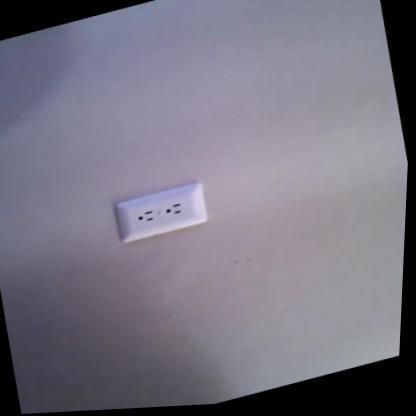OUTLET: (112, 179, 210, 243)
